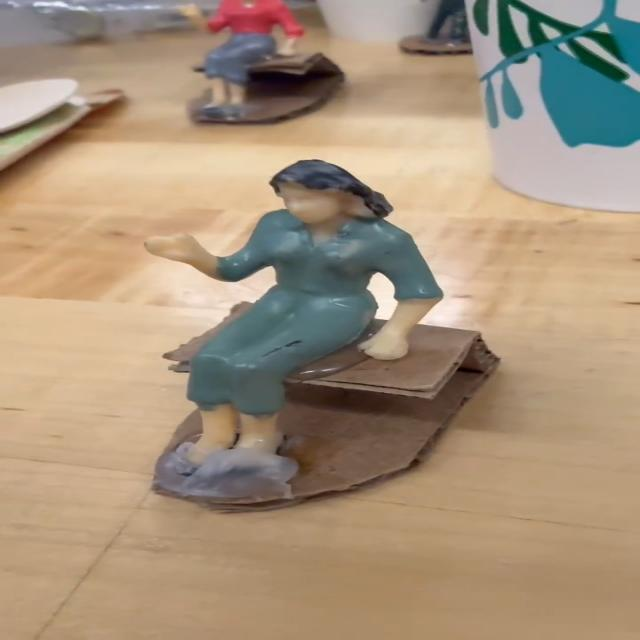Authorized: (118, 158, 479, 510)
